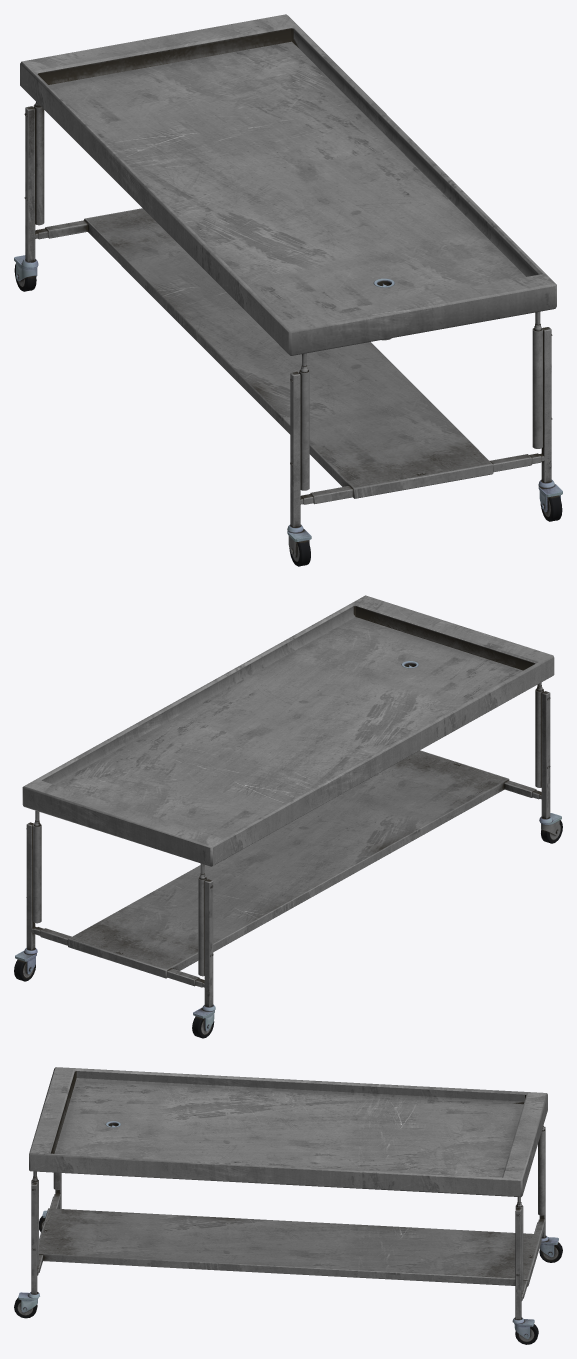
The model's file is medical_table_-_17mb.glb.
The picture shows the model from 3 angles, top to bottom: view 1: azimuth 30°, elevation 25°; view 2: azimuth 150°, elevation 25°; view 3: azimuth 270°, elevation 25°; orthographic projection. The views are drawn at different scales.
Parts seen in each view (by area): view 1: Object_14__0, Object_17__0, Object_18__0, Object_19__0; view 2: Object_14__0, Object_17__0, Object_18__0, Object_19__0; view 3: Object_14__0, Object_17__0, Object_19__0, Object_18__0.
Boxes of the visible parts, bbox=[...] form: Object_14__0: bbox=[20, 14, 556, 498]; Object_17__0: bbox=[22, 102, 554, 533]; Object_18__0: bbox=[14, 264, 562, 566]; Object_19__0: bbox=[14, 255, 562, 557]; Object_14__0: bbox=[22, 595, 554, 978]; Object_17__0: bbox=[24, 682, 552, 1011]; Object_18__0: bbox=[14, 820, 562, 1038]; Object_19__0: bbox=[15, 813, 561, 1031]; Object_14__0: bbox=[29, 1067, 547, 1286]; Object_17__0: bbox=[28, 1125, 548, 1323]; Object_19__0: bbox=[18, 1210, 558, 1339]; Object_18__0: bbox=[14, 1216, 562, 1344].
Size of the model in its own units: 1.17 by 0.7928 by 2.37.
Materials: 1 (1 with a texture image).
